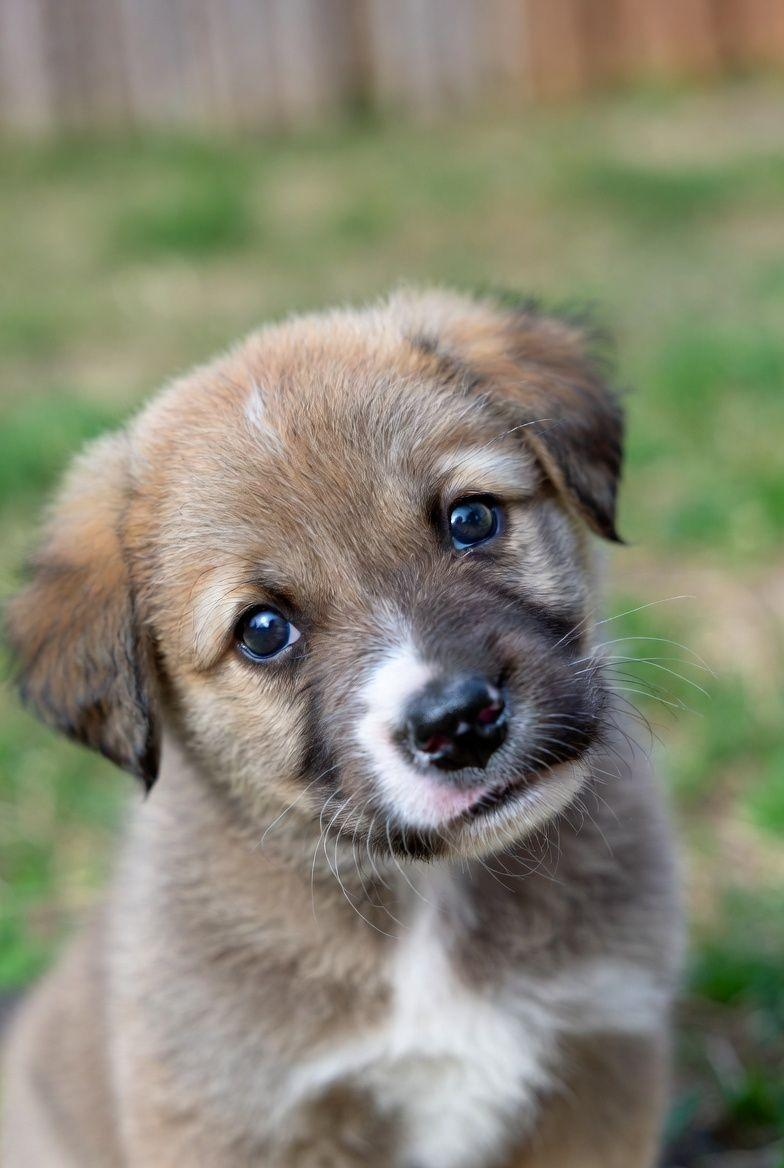puppy-dog: (1, 286, 691, 1168)
